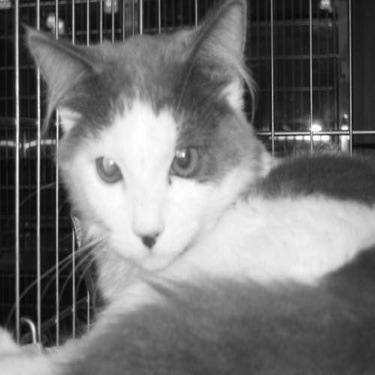cat: (1, 33, 368, 372)
